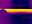Hotspot: (5, 8, 31, 14)
